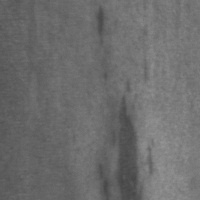inclusion: (92, 79, 158, 199), (92, 1, 113, 48)
